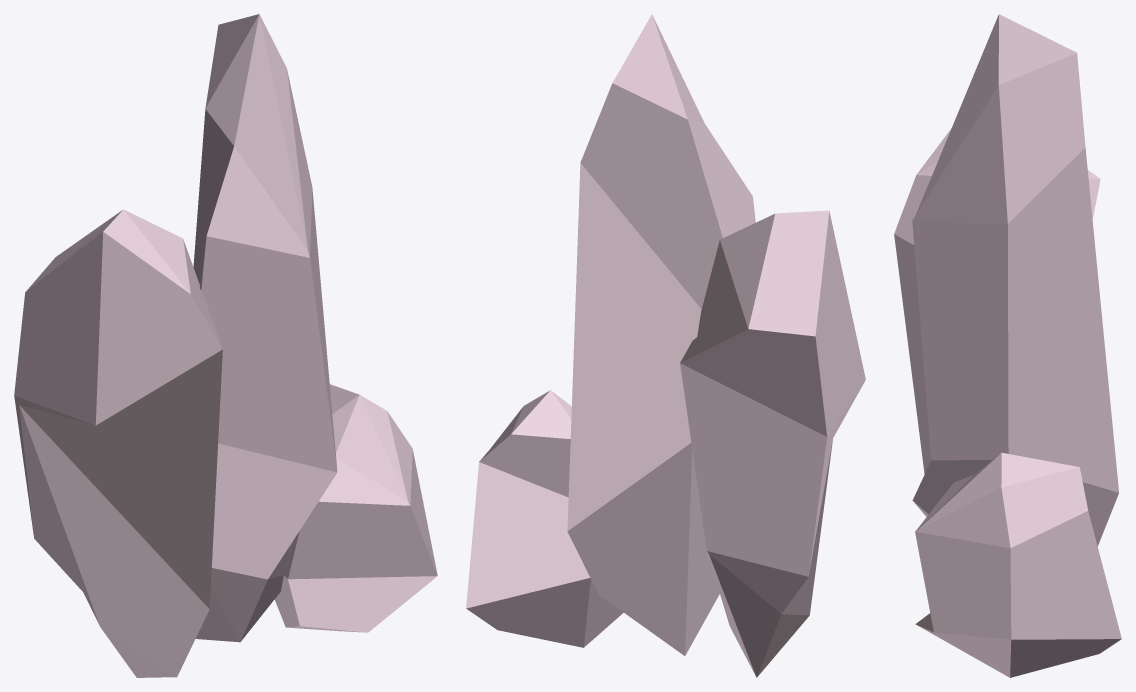
Rendered from rockformation.fbx.
The picture shows the model from 3 angles, left to right: view 1: azimuth 30°, elevation 25°; view 2: azimuth 150°, elevation 25°; view 3: azimuth 270°, elevation 25°; orthographic projection. The views are drawn at different scales.
Visible parts, largest first — view 1: pSphere3, pSphere1, pSphere2; view 2: pSphere1, pSphere3, pSphere2; view 3: pSphere1, pSphere2, pSphere3.
Part boxes in pixels (<box>): pSphere3: <box>14,209,222,677</box>; pSphere1: <box>193,14,337,642</box>; pSphere2: <box>274,384,437,632</box>; pSphere1: <box>567,14,755,655</box>; pSphere3: <box>680,210,865,677</box>; pSphere2: <box>466,390,623,647</box>; pSphere1: <box>912,14,1118,546</box>; pSphere2: <box>915,452,1121,677</box>; pSphere3: <box>894,128,1100,473</box>.
Size of the model in its own units: 8.39 by 13.45 by 4.5.
